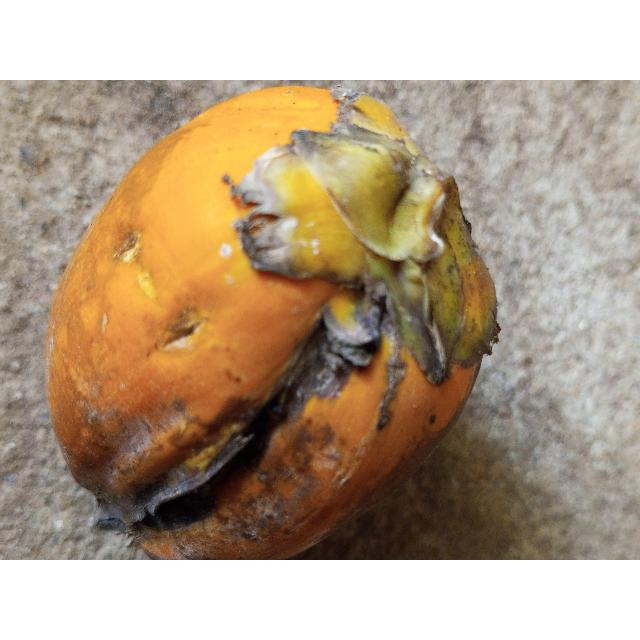damaged: (47, 87, 499, 558)
